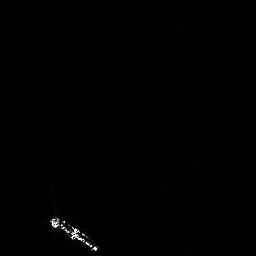ship: (46, 213, 101, 253)
